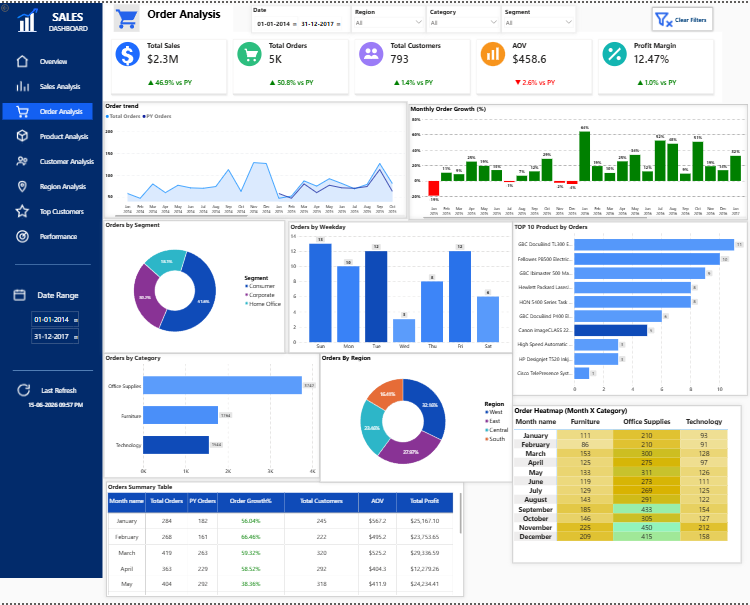

What the dashboard file says about the page in this screenshot:
{"tool":"powerbi","page":{"name":"Order Analysis","canvas":[3000,2400],"ordinal":2},"visuals":[{"type":"cardVisual","fields":{"Data":["Factsales.Total Sales","Factsales.Total Orders","Factsales.Total Customers","Factsales.AOV","Factsales.Profit Margin"]},"box":[416.7,116.7,2473.3,283.3],"z":0},{"type":"lineChart","title":"Order trend","fields":{"Category":["Dimdate.Month Year"],"Y":["Factsales.Total Orders","Factsales.PY Orders"]},"box":[416.7,396.7,1213.3,466.7],"z":1000},{"type":"clusteredBarChart","title":"Orders by Category","fields":{"Y":["Factsales.Total Orders"],"Category":["Dimproduct.Category"]},"box":[415,1400,865,500],"z":2000},{"type":"clusteredBarChart","title":"TOP 10 Product by Orders","fields":{"Y":["Factsales.Total Orders"],"Category":["Factsales.Product Name"]},"box":[2050,875,940,695],"z":3000},{"type":"pivotTable","title":"Orders Summary Table","fields":{"Values":["Factsales.Total Orders","Factsales.PY Orders","Factsales.Order Growth%","Factsales.Total Customers","Factsales.AOV","Factsales.Total Profit"],"Rows":["Dimdate.Month name"]},"box":[425,1915,1430,460],"z":4000},{"type":"shape","box":[0,0,410,2300],"z":5000},{"type":"textbox","box":[190,20,197.5,130],"z":6000},{"type":"actionButton","box":[10,200,360,65],"z":7000},{"type":"actionButton","box":[10,300,360,65],"z":8000},{"type":"actionButton","box":[10,500,360,65],"z":9000},{"type":"slicer","title":"Date","fields":{"Values":["Dimdate.Date"]},"box":[1002.5,7.5,400,110],"z":10000},{"type":"actionButton","box":[10,600,377.5,65],"z":11000},{"type":"actionButton","box":[10,700,360,65],"z":12000},{"type":"actionButton","box":[10,800,360,65],"z":13000},{"type":"actionButton","box":[10,900,360,66.7],"z":14000},{"type":"image","box":[2.5,7.5,225,130],"z":15000},{"type":"shape","box":[50,1390,323.3,160],"z":16000},{"type":"actionButton","box":[0,1136.7,356.7,63.3],"z":17000},{"type":"slicer","fields":{"Values":["Dimdate.Date"]},"box":[116.7,1223.3,230,150],"z":18000},{"type":"shape","box":[60,966.7,303.3,160],"z":19000},{"type":"cardVisual","fields":{"Data":["Dimdate.Last Refresh"]},"box":[86.7,1566.7,323.3,83.3],"z":20000},{"type":"actionButton","box":[13.3,1516.7,440,66.7],"z":21000},{"type":"slicer","fields":{"Values":["Factsales.Region"]},"box":[1402.5,7.5,300,110],"z":22000},{"type":"slicer","fields":{"Values":["Factsales.Category"]},"box":[1702.5,7.5,300,110],"z":23000},{"type":"slicer","fields":{"Values":["Factsales.Segment"]},"box":[2002.5,7.5,300,110],"z":24000},{"type":"donutChart","title":"Orders by Segment","fields":{"Category":["Dimcustomer.Segment"],"Y":["Factsales.Total Orders"]},"box":[415,870,725,530],"z":25000},{"type":"actionButton","box":[2600,10,260,110],"z":26000},{"type":"textbox","box":[417.5,7.5,512.5,110],"z":27000},{"type":"clusteredColumnChart","title":"Monthly Order Growth (%)","fields":{"Category":["Dimdate.Month Year"],"Y":["Factsales.Order Growth%"]},"box":[1633.3,403.3,1356.7,463.3],"z":28000},{"type":"donutChart","title":"Orders By Region","fields":{"Category":["Factsales.Region"],"Y":["Factsales.Total Orders"]},"box":[1280,1400,770,516.7],"z":29000},{"type":"clusteredColumnChart","title":"Orders by Weekday","fields":{"Y":["Factsales.Total Orders"],"Category":["Dimdate.Short weekday"]},"box":[1155,875,895,525],"z":30000},{"type":"actionButton","box":[0,0,100,40],"z":31000},{"type":"image","box":[453.3,6.7,103.3,110],"z":32000},{"type":"pivotTable","title":"Order Heatmap (Month X Category)","fields":{"Rows":["Dimdate.Month name"],"Values":["Factsales.Total Orders"],"Columns":["Factsales.Category"]},"box":[2050,1610,915,630],"z":33000},{"type":"actionButton","box":[10,400,360,66.7],"z":34000}]}

Visuals, with their boxes on the page's 3000x2400 design canvas (x1, y1, x2, y2). These are canvas units, not pixel positions in the 750x605 screenshot, which may show the page scaled, cropped or inside an application window:
cardVisual - Factsales.Total Sales x Factsales.Total Orders: bbox=[417, 117, 2890, 400]
"Order trend" lineChart: bbox=[417, 397, 1630, 863]
"Orders by Category" clusteredBarChart: bbox=[415, 1400, 1280, 1900]
"TOP 10 Product by Orders" clusteredBarChart: bbox=[2050, 875, 2990, 1570]
"Orders Summary Table" pivotTable: bbox=[425, 1915, 1855, 2375]
shape: bbox=[0, 0, 410, 2300]
textbox: bbox=[190, 20, 388, 150]
actionButton: bbox=[10, 200, 370, 265]
actionButton: bbox=[10, 300, 370, 365]
actionButton: bbox=[10, 500, 370, 565]
"Date" slicer: bbox=[1002, 8, 1402, 118]
actionButton: bbox=[10, 600, 388, 665]
actionButton: bbox=[10, 700, 370, 765]
actionButton: bbox=[10, 800, 370, 865]
actionButton: bbox=[10, 900, 370, 967]
image: bbox=[2, 8, 228, 138]
shape: bbox=[50, 1390, 373, 1550]
actionButton: bbox=[0, 1137, 357, 1200]
slicer - Dimdate.Date: bbox=[117, 1223, 347, 1373]
shape: bbox=[60, 967, 363, 1127]
cardVisual - Dimdate.Last Refresh: bbox=[87, 1567, 410, 1650]
actionButton: bbox=[13, 1517, 453, 1583]
slicer - Factsales.Region: bbox=[1402, 8, 1702, 118]
slicer - Factsales.Category: bbox=[1702, 8, 2002, 118]
slicer - Factsales.Segment: bbox=[2002, 8, 2302, 118]
"Orders by Segment" donutChart: bbox=[415, 870, 1140, 1400]
actionButton: bbox=[2600, 10, 2860, 120]
textbox: bbox=[418, 8, 930, 118]
"Monthly Order Growth (%)" clusteredColumnChart: bbox=[1633, 403, 2990, 867]
"Orders By Region" donutChart: bbox=[1280, 1400, 2050, 1917]
"Orders by Weekday" clusteredColumnChart: bbox=[1155, 875, 2050, 1400]
actionButton: bbox=[0, 0, 100, 40]
image: bbox=[453, 7, 557, 117]
"Order Heatmap (Month X Category)" pivotTable: bbox=[2050, 1610, 2965, 2240]
actionButton: bbox=[10, 400, 370, 467]
